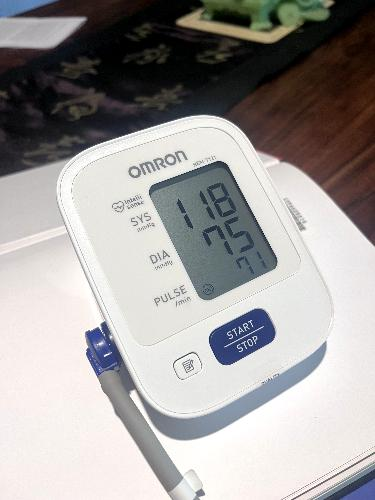bpm: (148, 150, 280, 303)
